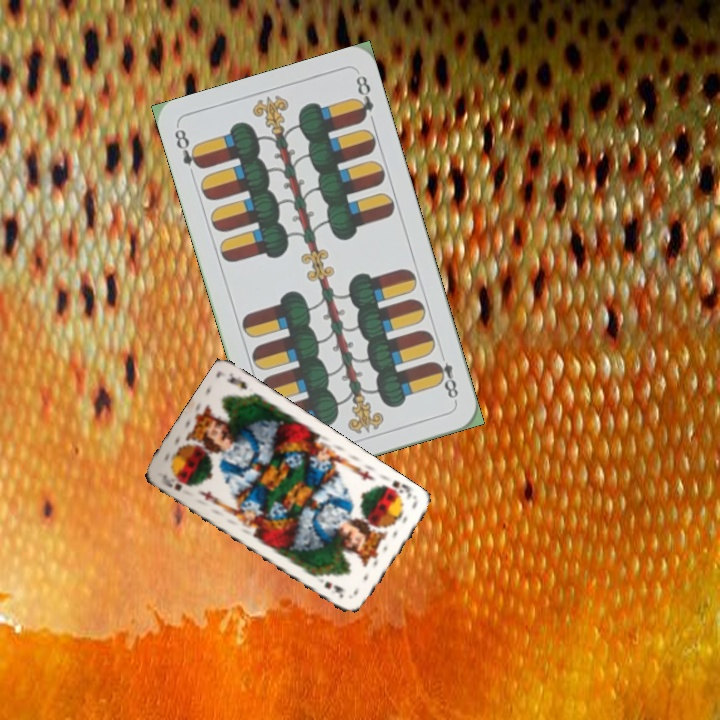E8: (429, 347, 461, 405), (170, 125, 205, 172)
SK: (378, 476, 414, 502), (157, 474, 193, 493)
